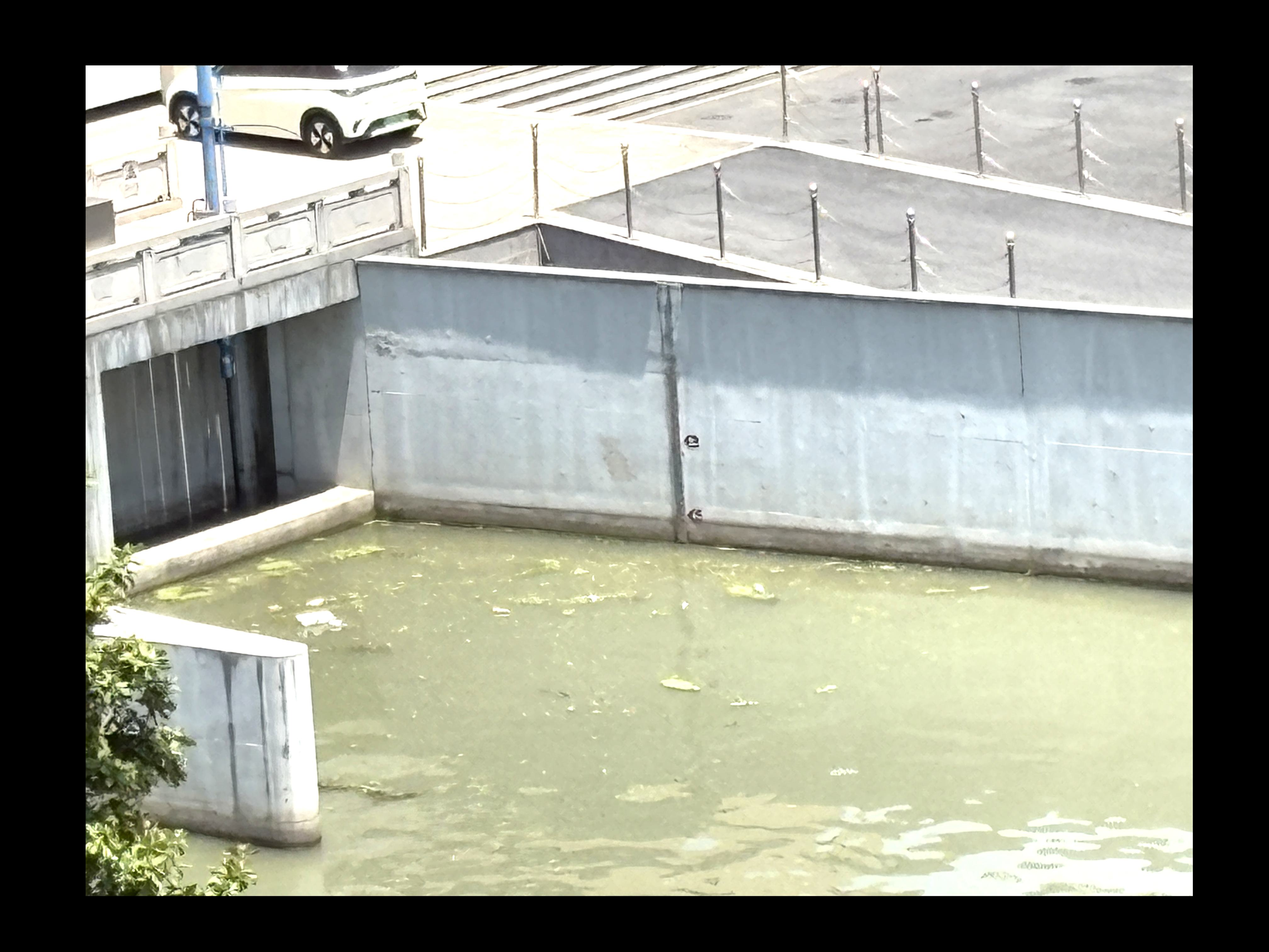Other: (342, 782, 426, 802), (732, 581, 778, 603), (330, 541, 383, 558), (568, 589, 642, 601), (159, 587, 212, 600), (663, 676, 701, 690), (533, 559, 564, 573), (261, 563, 290, 571)
Plastic wastes: (296, 610, 341, 627)
